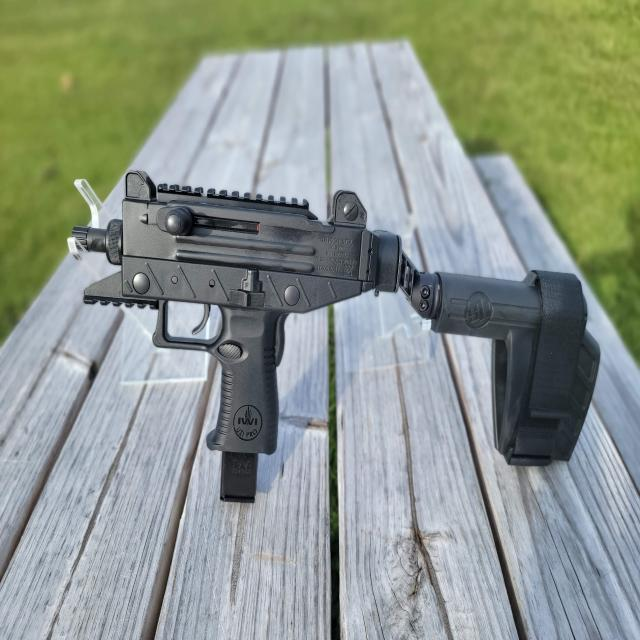SMG: (83, 171, 558, 505)
